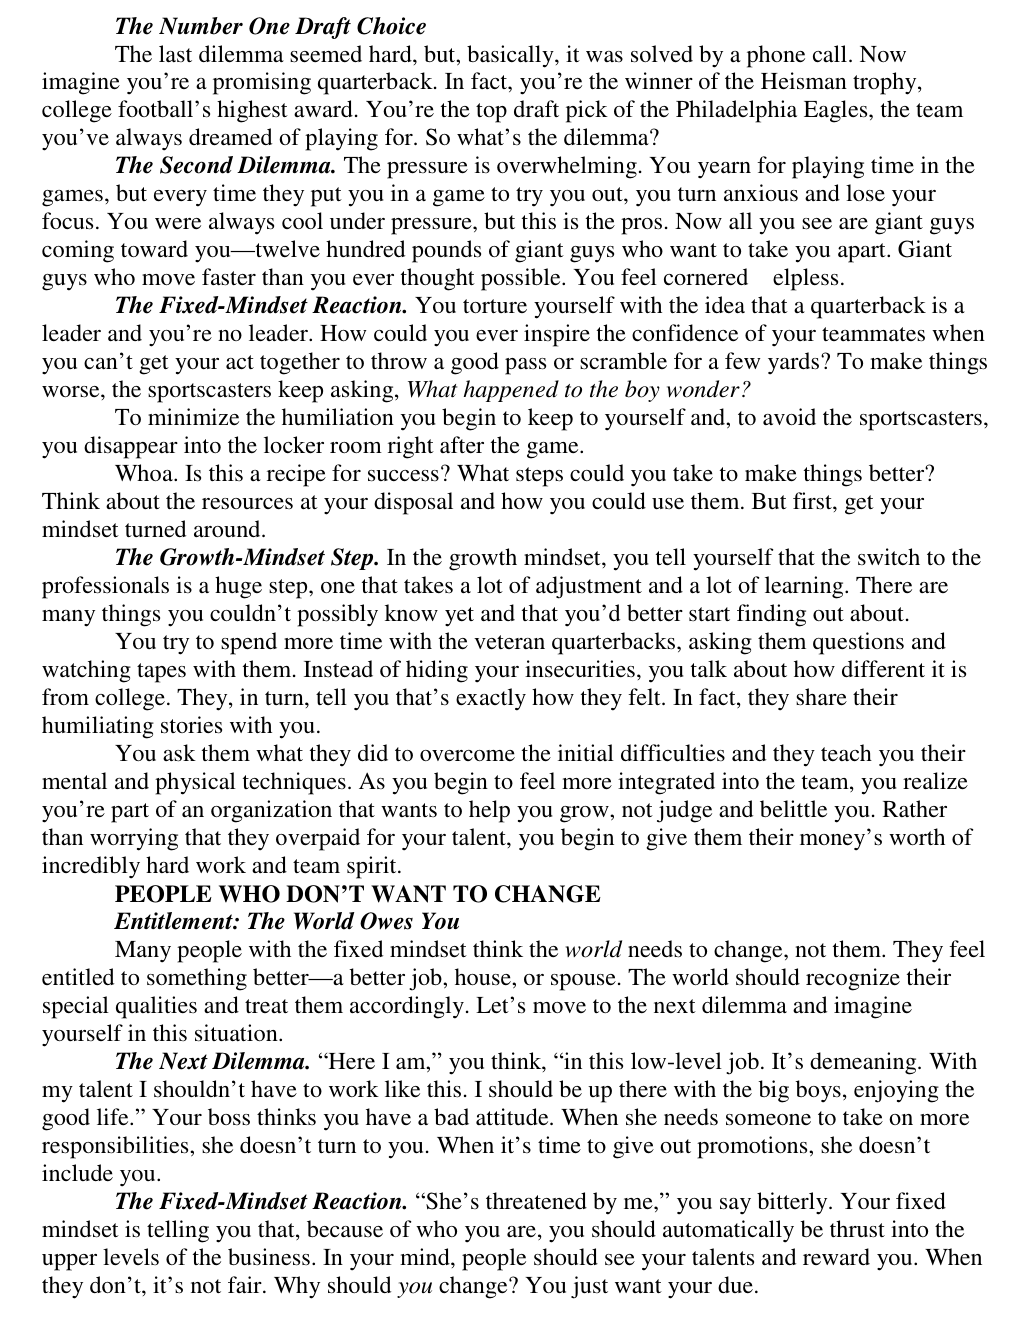latin: (26, 543, 984, 878), (37, 292, 991, 543), (34, 936, 988, 1187), (30, 150, 981, 294), (36, 16, 966, 150), (40, 1186, 986, 1311), (113, 878, 602, 936)
